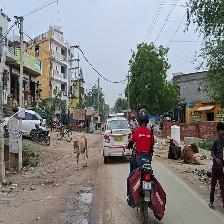Bike: (124, 107, 167, 223)
Car: (101, 110, 131, 164)
Human: (208, 119, 224, 211)
Obstacle: (69, 132, 91, 171)
Road: (141, 160, 222, 223), (88, 161, 141, 223)
waterlog: (52, 181, 96, 223)
